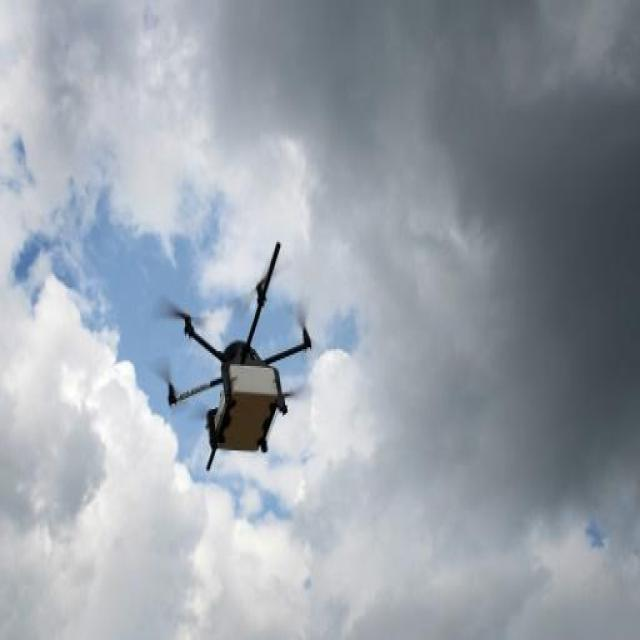drone: (169, 238, 314, 474)
